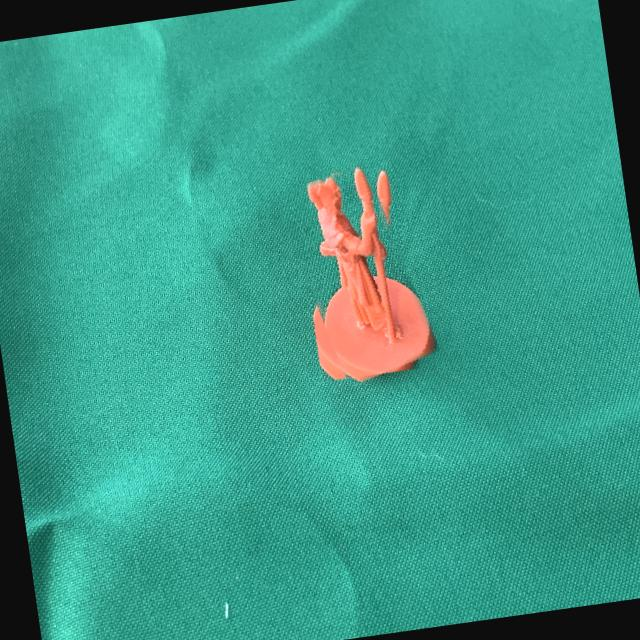amon_follower: (307, 168, 435, 381)
